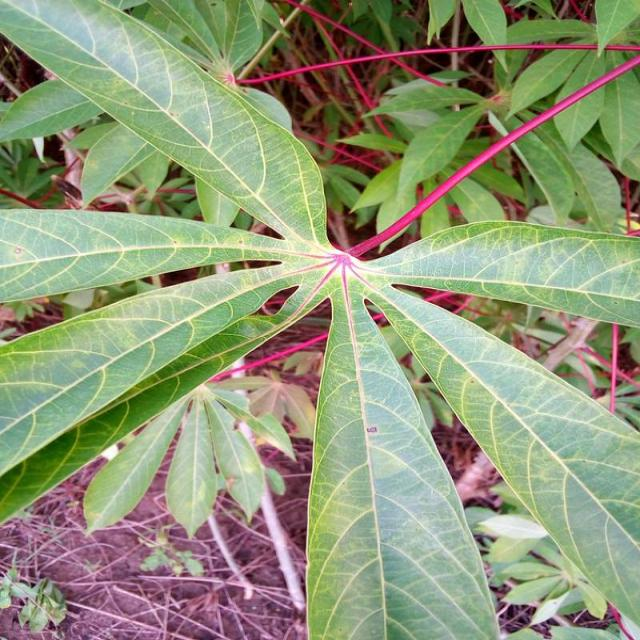cassava leaf: (0, 1, 638, 636), (0, 0, 330, 250), (304, 263, 501, 638)
